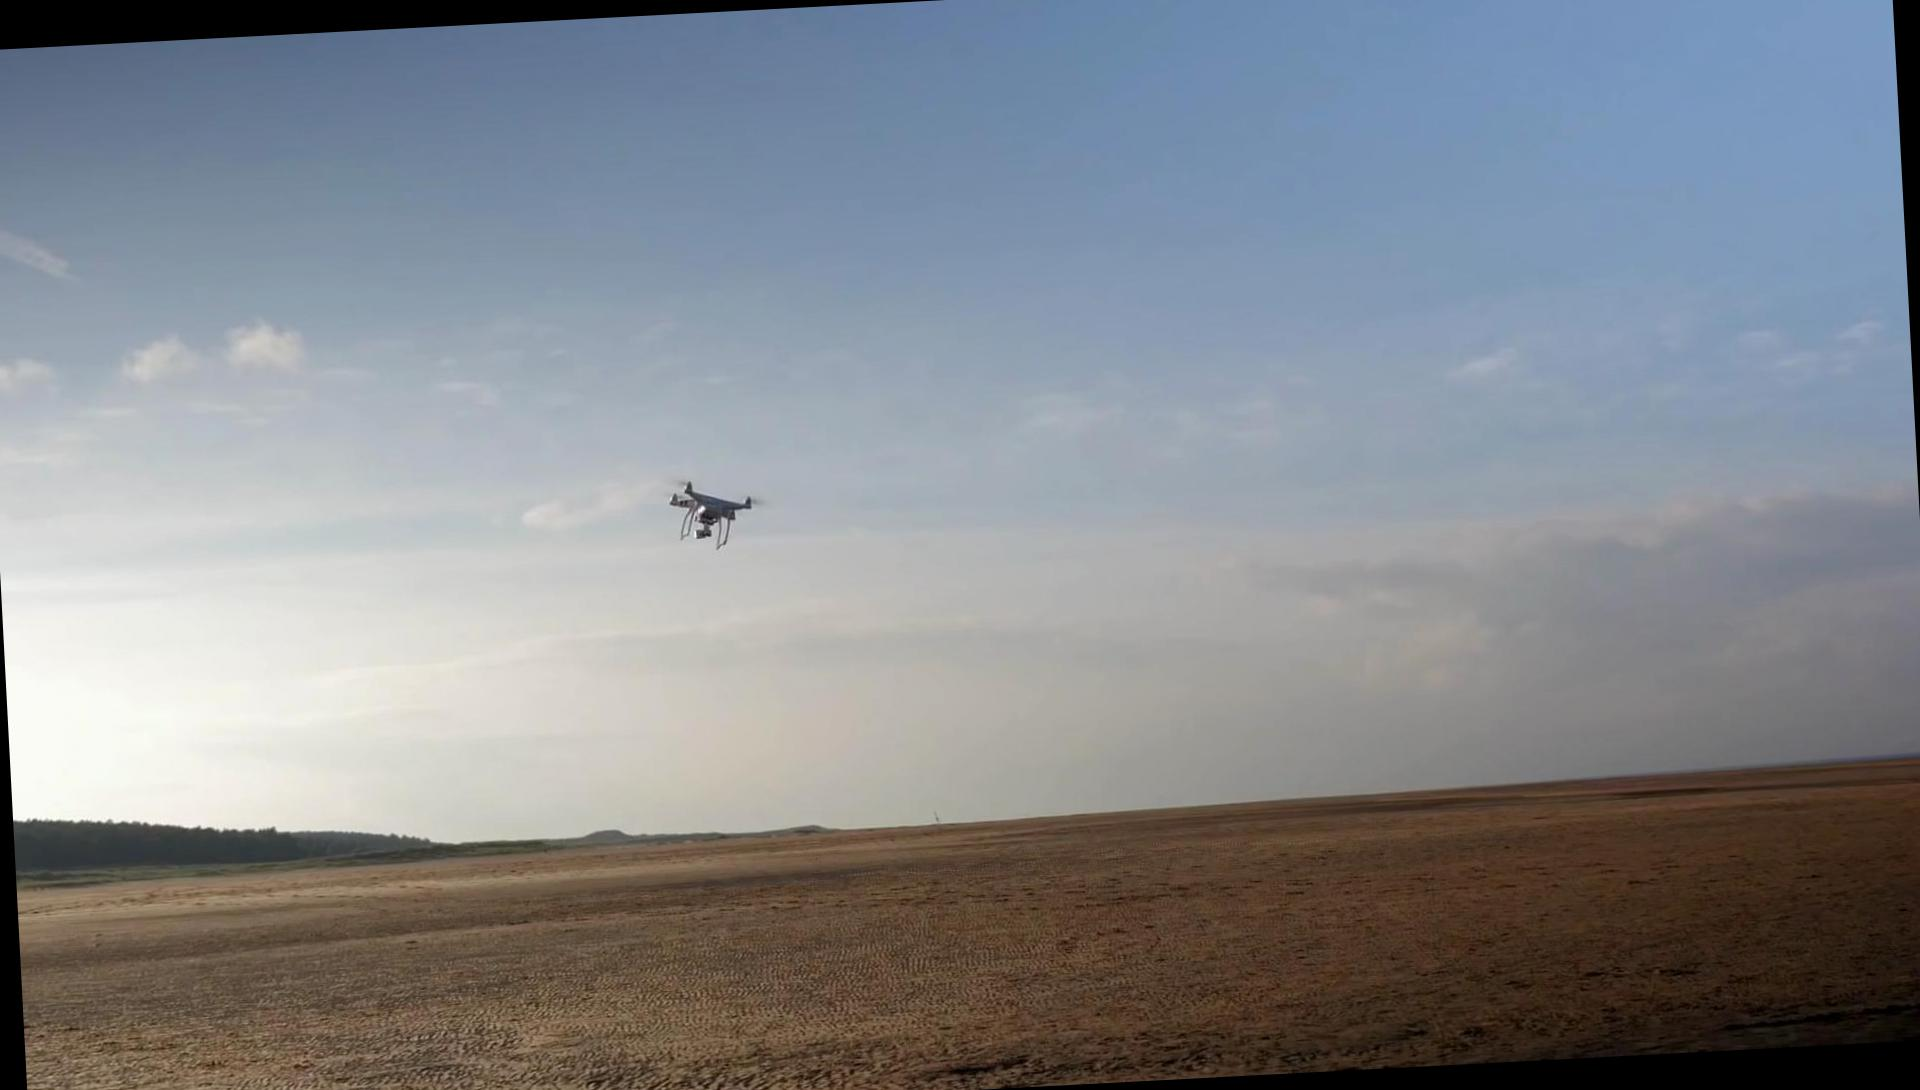drone: (661, 471, 767, 551)
